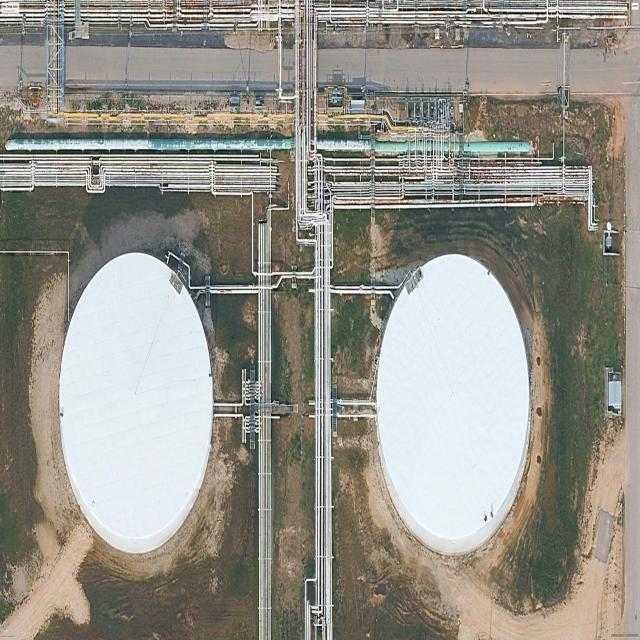Oil Rafinery: (376, 254, 531, 554), (59, 253, 213, 553)
